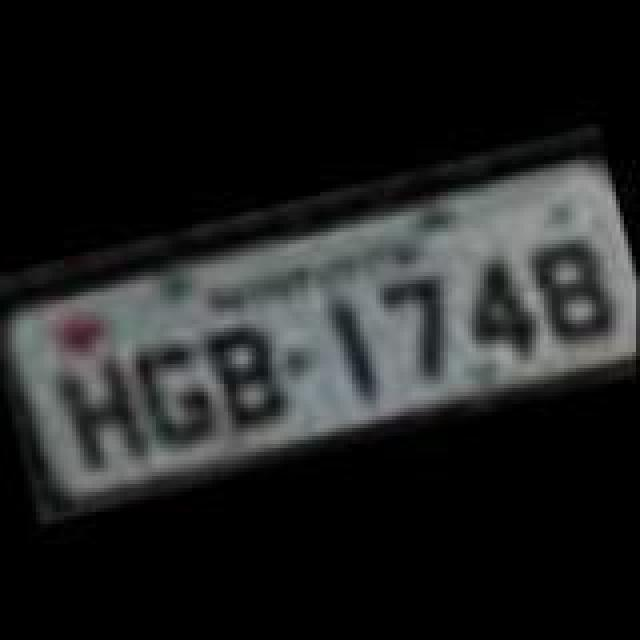1: (326, 290, 390, 398)
4: (452, 242, 552, 370)
7: (374, 262, 470, 386)
8: (520, 226, 620, 346)
B: (200, 310, 292, 430)
G: (128, 324, 228, 456)
H: (50, 342, 154, 478)
